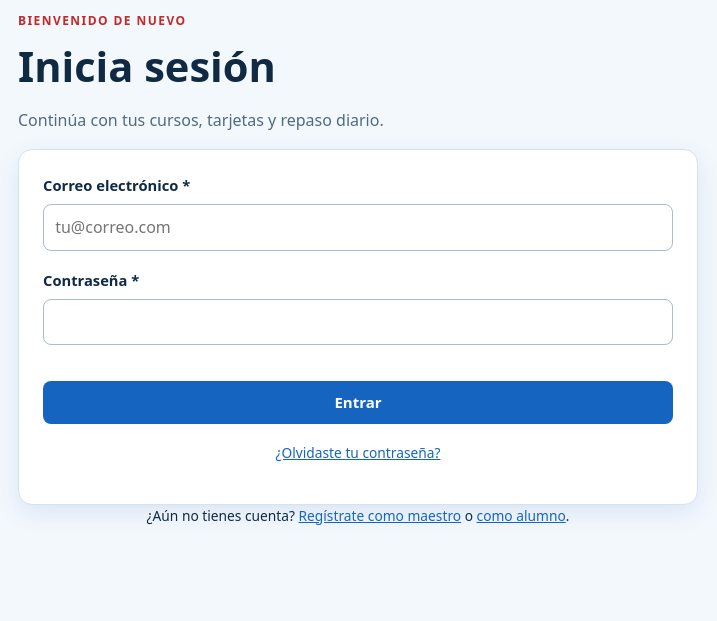
it: Formulario de login › muestra el error del servidor cuando las credenciales son incorrectas
Type "maestro@ejemplo.com" into the field labelled "Correo electrónico *" at (358, 228), box left=43, top=204, right=673, bottom=251
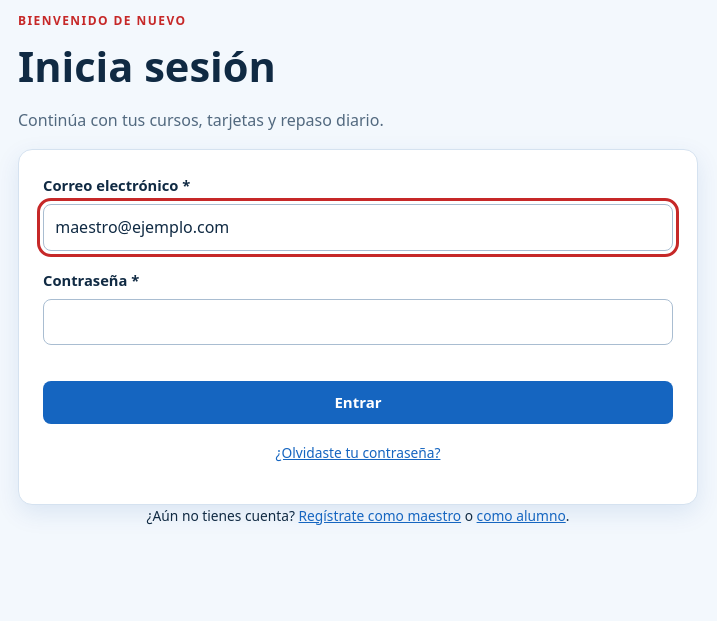
Type "incorrecta" into the password field labelled "Contraseña *" at (358, 322), box left=43, top=299, right=673, bottom=345
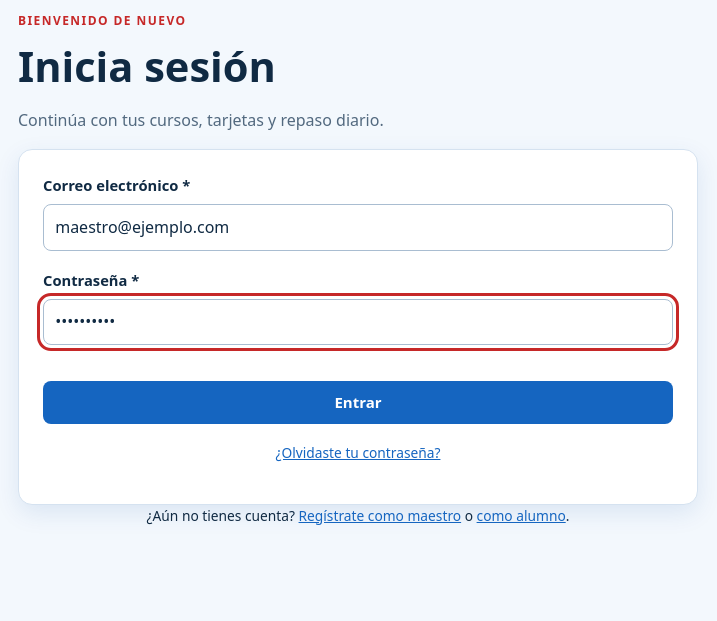
Click the button "Entrar" at (358, 402), box left=43, top=381, right=673, bottom=424
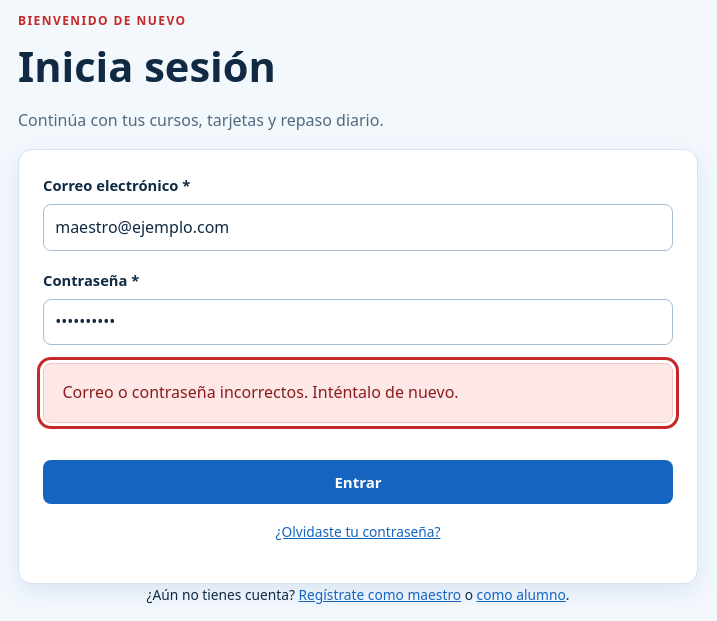
Result: the message shows "Correo o contraseña incorrectos" at left=62, top=381, right=459, bottom=403
